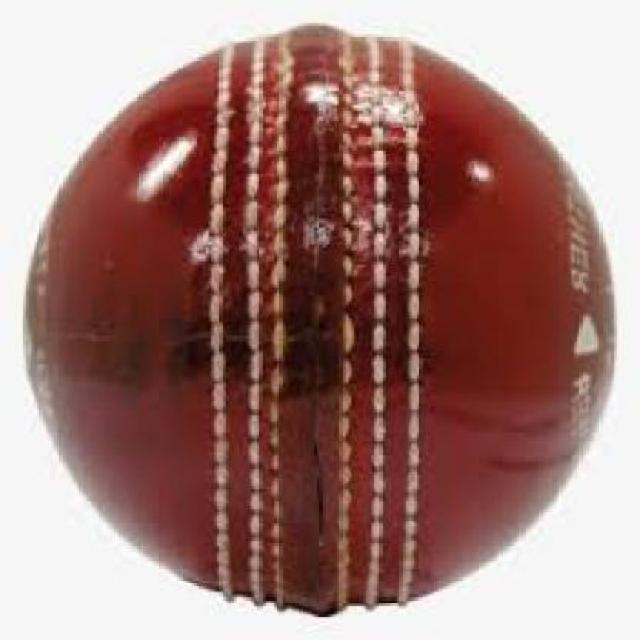ball: (2, 1, 640, 616)
